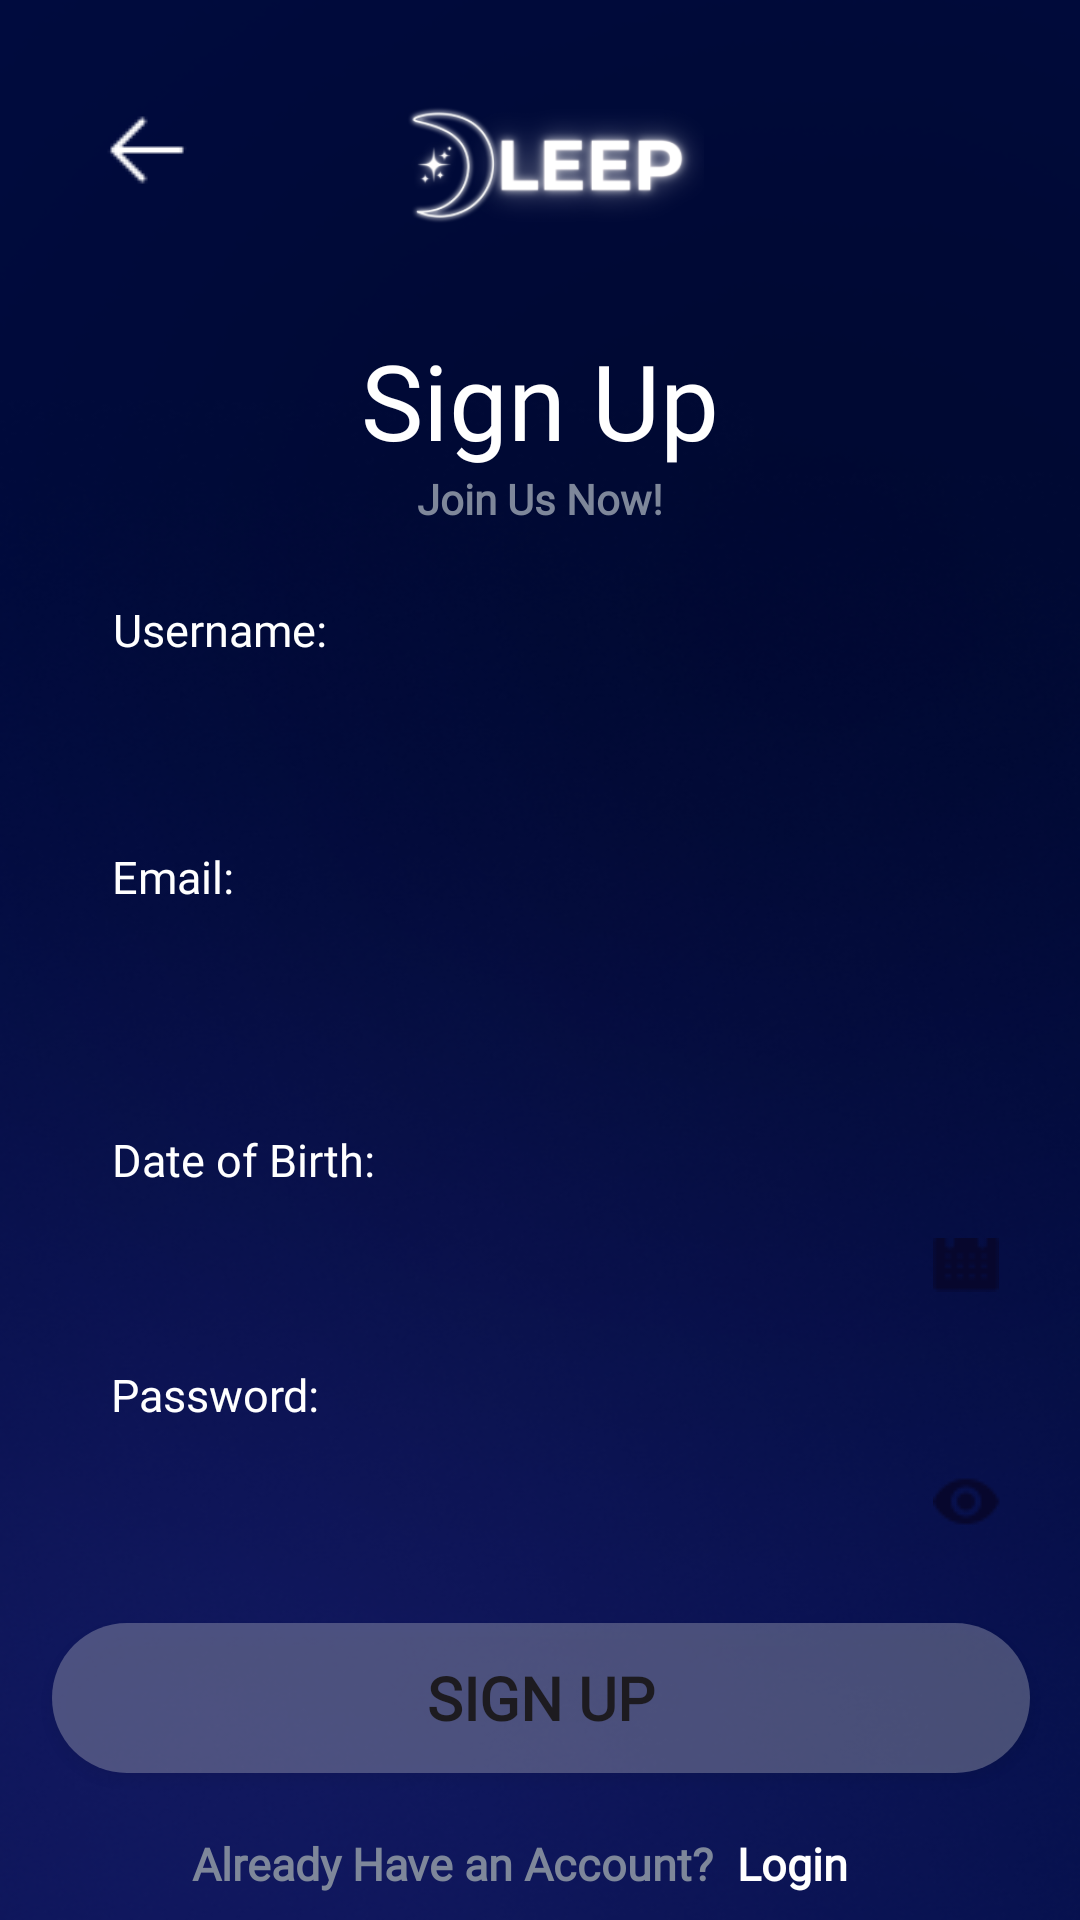

Named icons in this screenshot (1080×1920) and their bounding boxes, (x1, y1, x2, y2):
backarrow: (110, 116, 184, 184)
